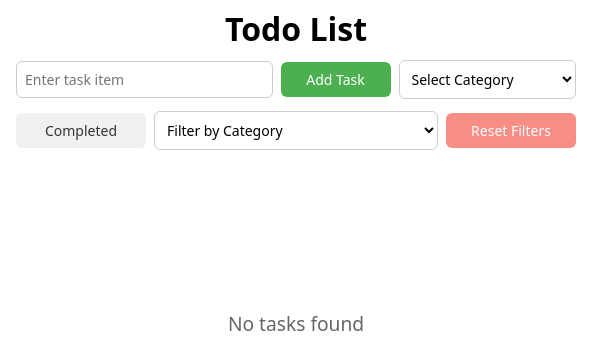
it: TodoList Component › adds a new task
Type "New Task" into the field with placeholder "Enter task item" at (144, 80), box [16,61,272,98]
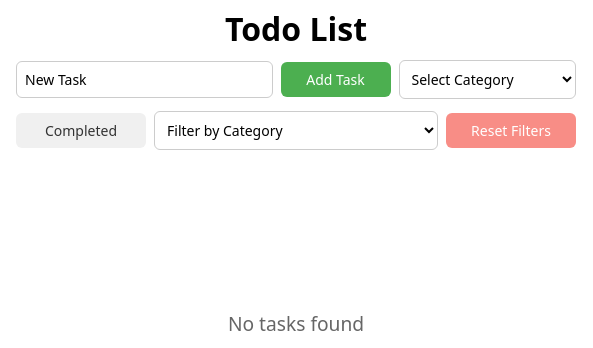
Select "Work" in the 1st dropdown at (487, 80), box [398,60,576,99]
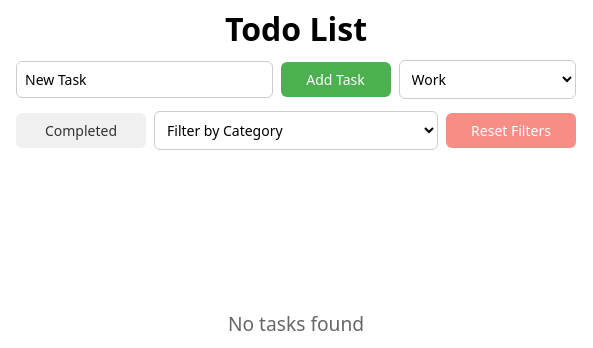
Click the button "Add Task" at (336, 80), box [280,62,390,97]
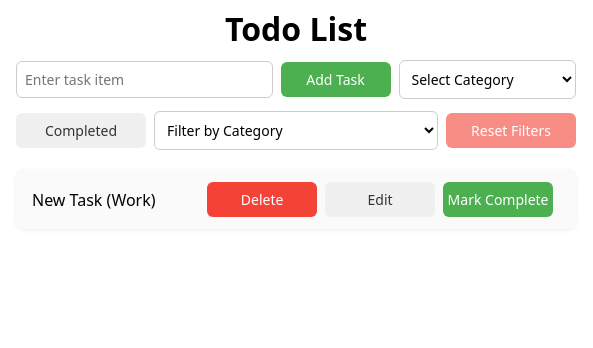
Result: the text "New Task (Work)" is shown at [32,188,156,210]
